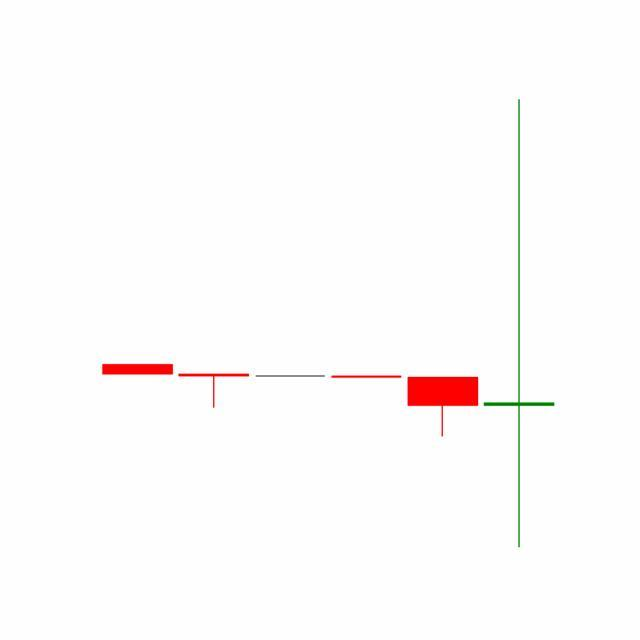Hammer: (404, 376, 482, 438)
